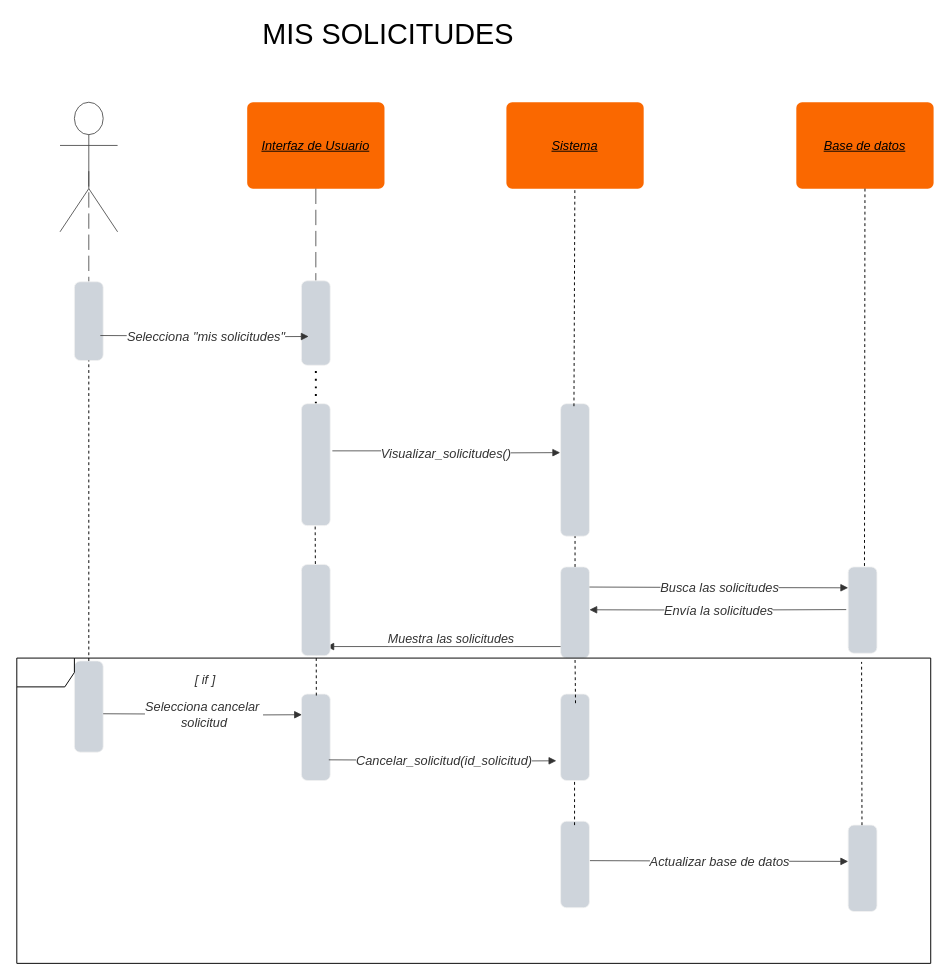
Image size: 950x980. Some labels were removed from this diagram. Each missing label, with the box of its shape:
ALT: (16, 657, 931, 963)
Alumno/Tutor: (59, 101, 118, 232)
